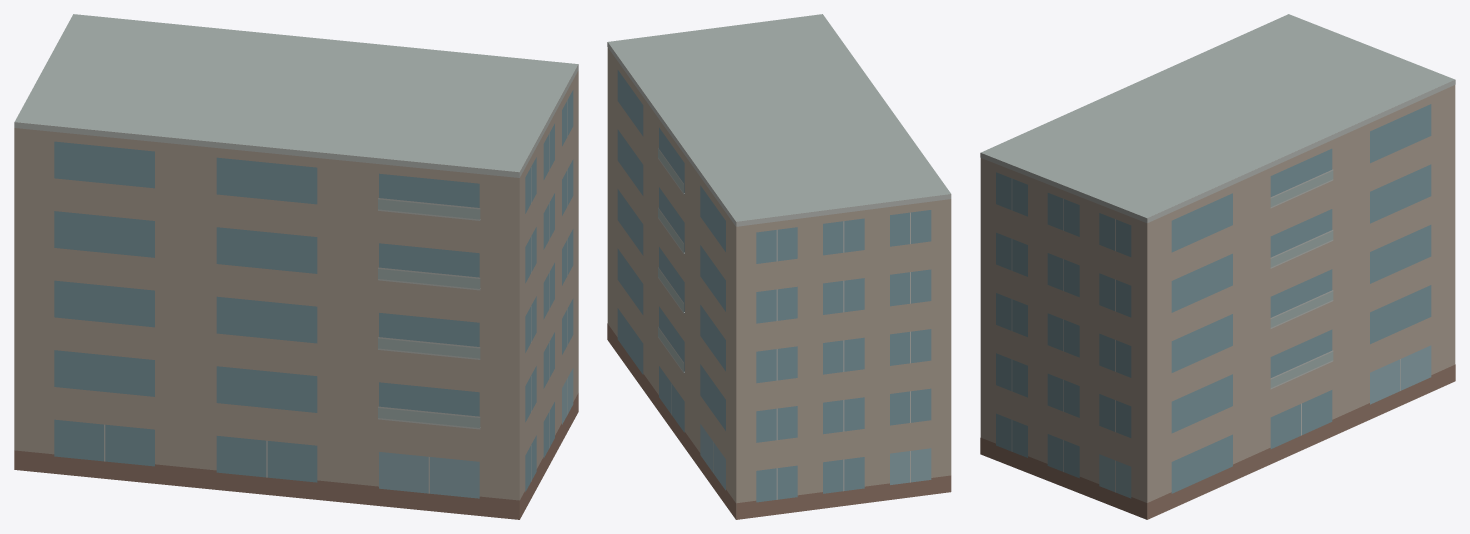
Rendered from survey-upis-32712052.glb.
3 views of the same model, side by side, from view 1: azimuth 30°, elevation 25°; view 2: azimuth 150°, elevation 25°; view 3: azimuth 270°, elevation 25° (orthographic). The views are drawn at different scales.
Parts seen in each view (by area): view 1: survey-upis-32712052.tmp; view 2: survey-upis-32712052.tmp; view 3: survey-upis-32712052.tmp.
Part boxes in pixels (<box>): survey-upis-32712052.tmp: <box>14,14,578,519</box>; survey-upis-32712052.tmp: <box>607,14,951,519</box>; survey-upis-32712052.tmp: <box>980,14,1455,519</box>.
Bounding box in the file's own units: 21.22 × 14.6 × 20.84.
